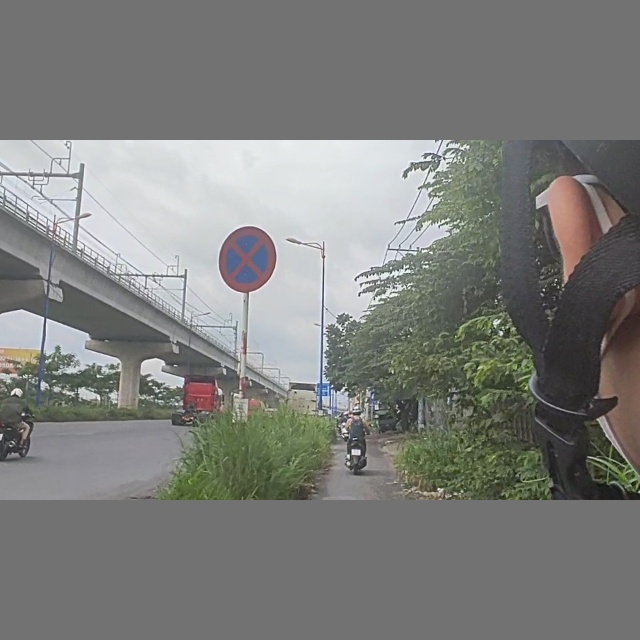P.130: (209, 221, 287, 297)
